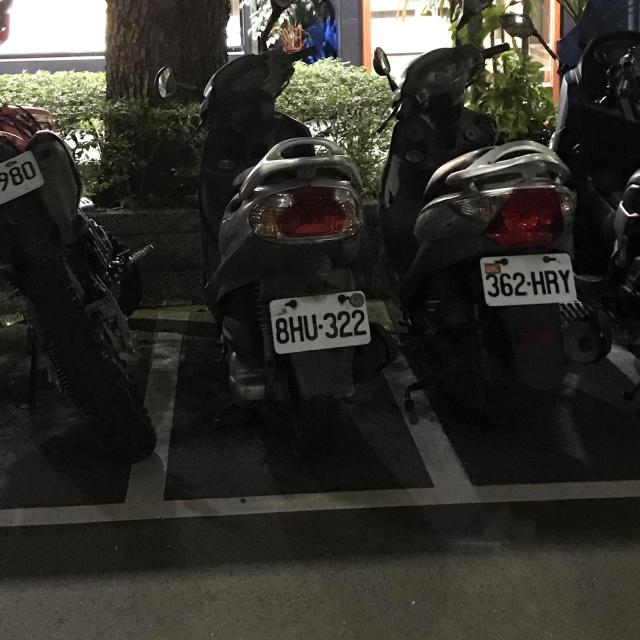W: (267, 288, 374, 354), (475, 247, 580, 310), (0, 146, 50, 214)
